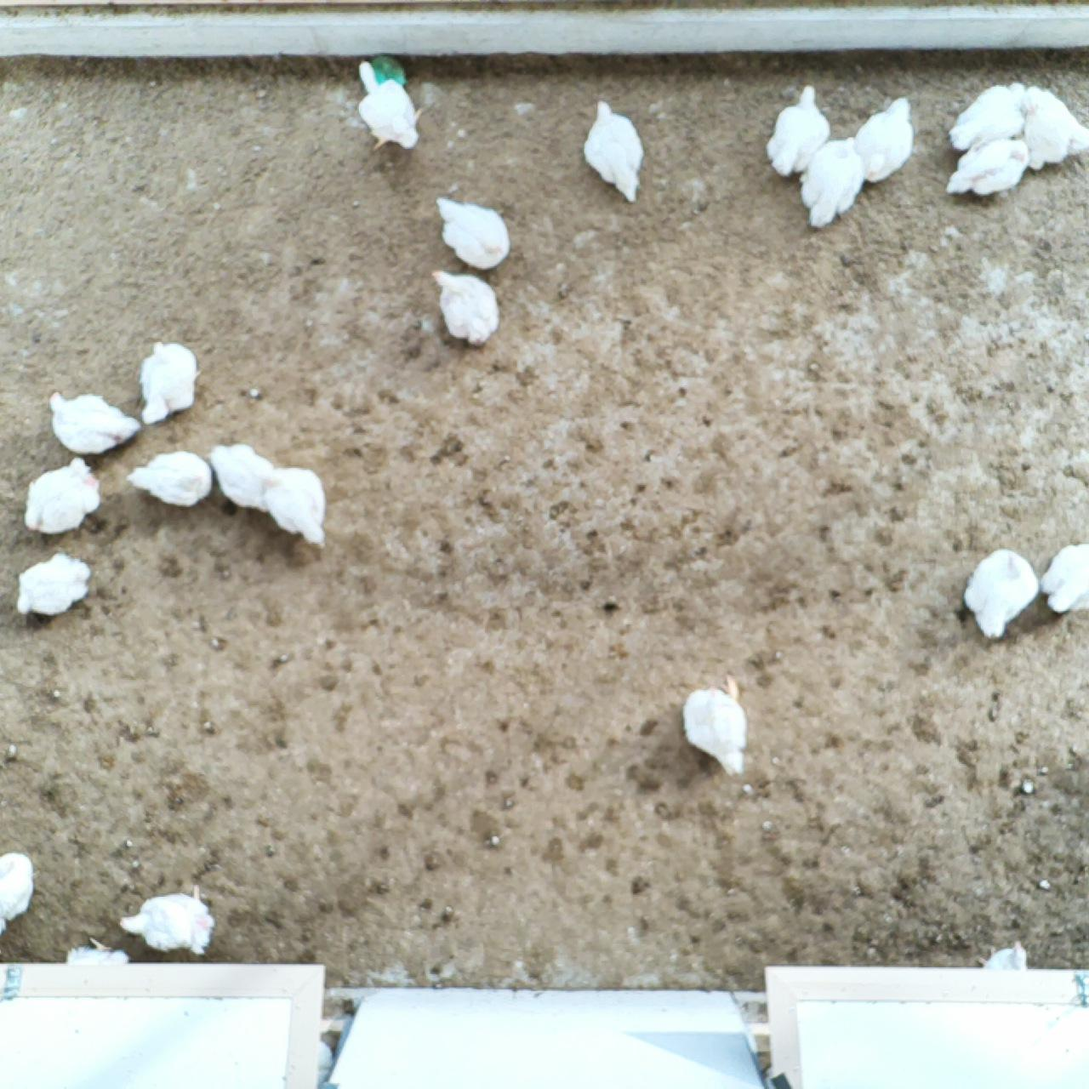chicken: (580, 96, 655, 210), (677, 670, 753, 780), (346, 56, 427, 155), (960, 546, 1042, 642), (793, 133, 868, 237), (116, 882, 217, 958), (18, 455, 103, 539), (763, 83, 834, 181), (946, 76, 1029, 158), (431, 192, 516, 272), (45, 386, 143, 455), (134, 336, 204, 429), (943, 134, 1030, 208), (851, 92, 918, 188), (1022, 82, 1089, 174), (431, 267, 503, 350), (264, 465, 332, 552), (15, 551, 96, 623), (126, 448, 215, 510), (207, 440, 273, 515), (1041, 540, 1089, 620), (0, 847, 42, 932), (61, 932, 133, 972), (974, 935, 1031, 977)
